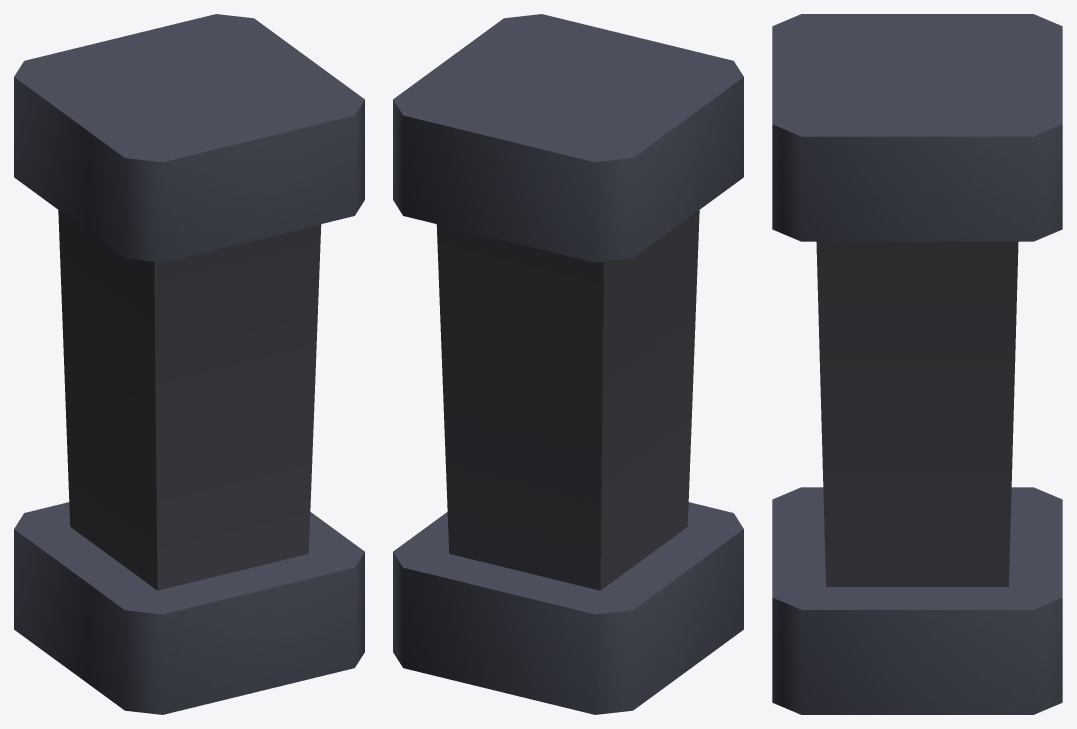
The model's file is column.glb.
3 views of the same model, side by side, from view 1: azimuth 30°, elevation 25°; view 2: azimuth 150°, elevation 25°; view 3: azimuth 270°, elevation 25° (orthographic). The views are drawn at different scales.
Visible parts, largest first — view 1: column; view 2: column; view 3: column.
Part boxes in pixels (x1,y1,x2,y2): column: [14, 14, 364, 714]; column: [393, 14, 743, 714]; column: [772, 14, 1062, 714].
Bounding box in the file's own units: 0.5 × 1.1 × 0.5.
1 material, 1 textured.
